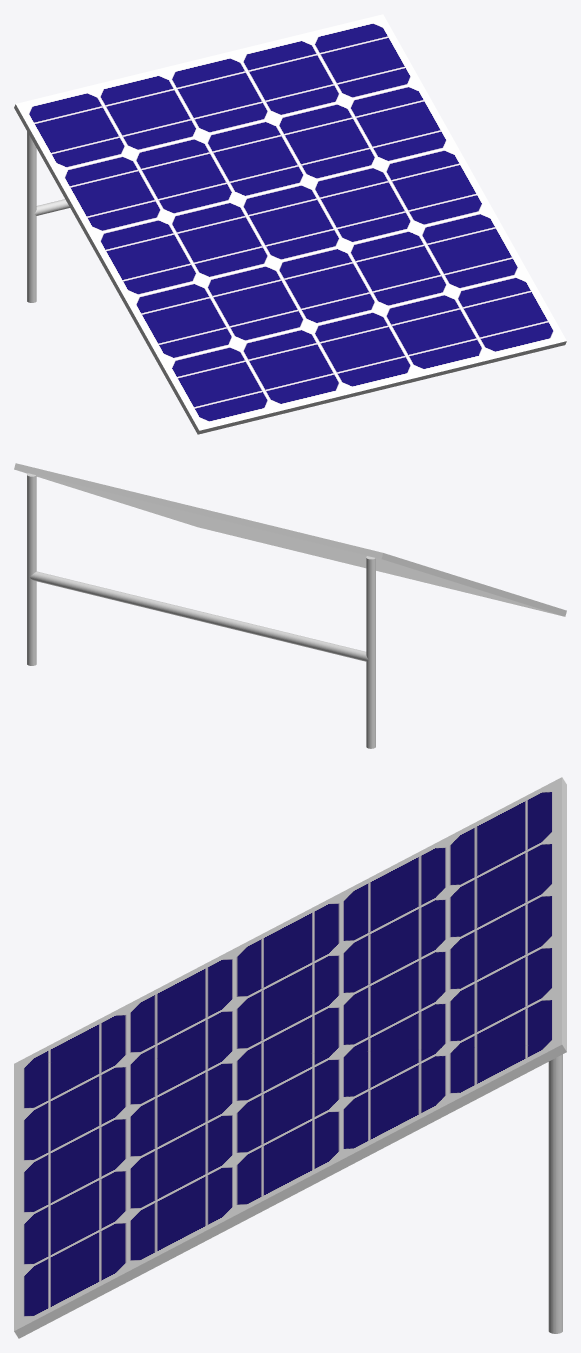
File: solar_panel.gltf
3 renders of one model, top to bottom at view 1: azimuth 30°, elevation 25°; view 2: azimuth 150°, elevation 25°; view 3: azimuth 270°, elevation 25°, orthographic. The views are drawn at different scales.
Parts seen in each view (by area): view 1: Plane, Cylinder.001; view 2: Plane, Cylinder.002, Cylinder.001, Cylinder; view 3: Plane, Cylinder.
Boxes of the visible parts, x1=… form: Plane: x1=14, y1=14, x2=566, y2=434; Cylinder.001: x1=27, y1=131, x2=36, y2=302; Plane: x1=14, y1=463, x2=566, y2=616; Cylinder.002: x1=30, y1=571, x2=368, y2=661; Cylinder.001: x1=366, y1=556, x2=375, y2=748; Cylinder: x1=27, y1=473, x2=36, y2=665; Plane: x1=14, y1=777, x2=566, y2=1338; Cylinder: x1=548, y1=1054, x2=562, y2=1333.
Bounding box in the file's own units: 1.3 × 0.6723 × 1.14.
Materials: 2 (1 with a texture image).
